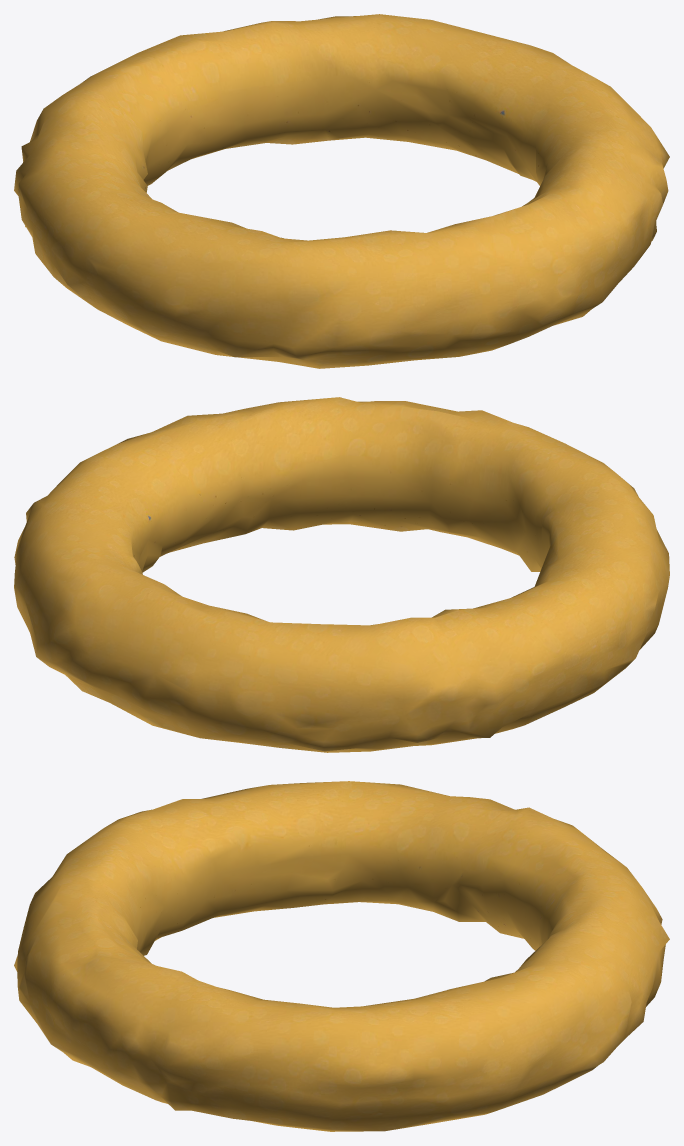
The model's file is Aro de cebolla Crudo.fbx.
3 renders of one model, top to bottom at view 1: azimuth 30°, elevation 25°; view 2: azimuth 150°, elevation 25°; view 3: azimuth 270°, elevation 25°, orthographic.
Parts seen in each view (by area): view 1: Aro_de_cebolla_crudo:tripo_node_450b80d4; view 2: Aro_de_cebolla_crudo:tripo_node_450b80d4; view 3: Aro_de_cebolla_crudo:tripo_node_450b80d4.
Part boxes in pixels (bbox=[...]): Aro_de_cebolla_crudo:tripo_node_450b80d4: bbox=[14, 14, 669, 368]; Aro_de_cebolla_crudo:tripo_node_450b80d4: bbox=[14, 397, 669, 752]; Aro_de_cebolla_crudo:tripo_node_450b80d4: bbox=[14, 781, 669, 1131].
Bounding box in the file's own units: 6.36 × 1.29 × 6.41.
